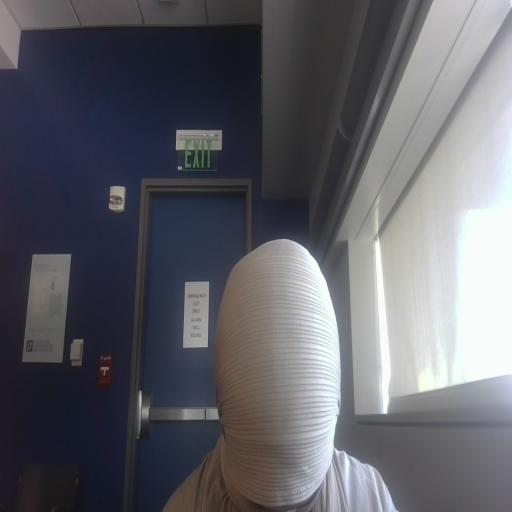lookingdownatphone: (258, 489, 319, 511)
